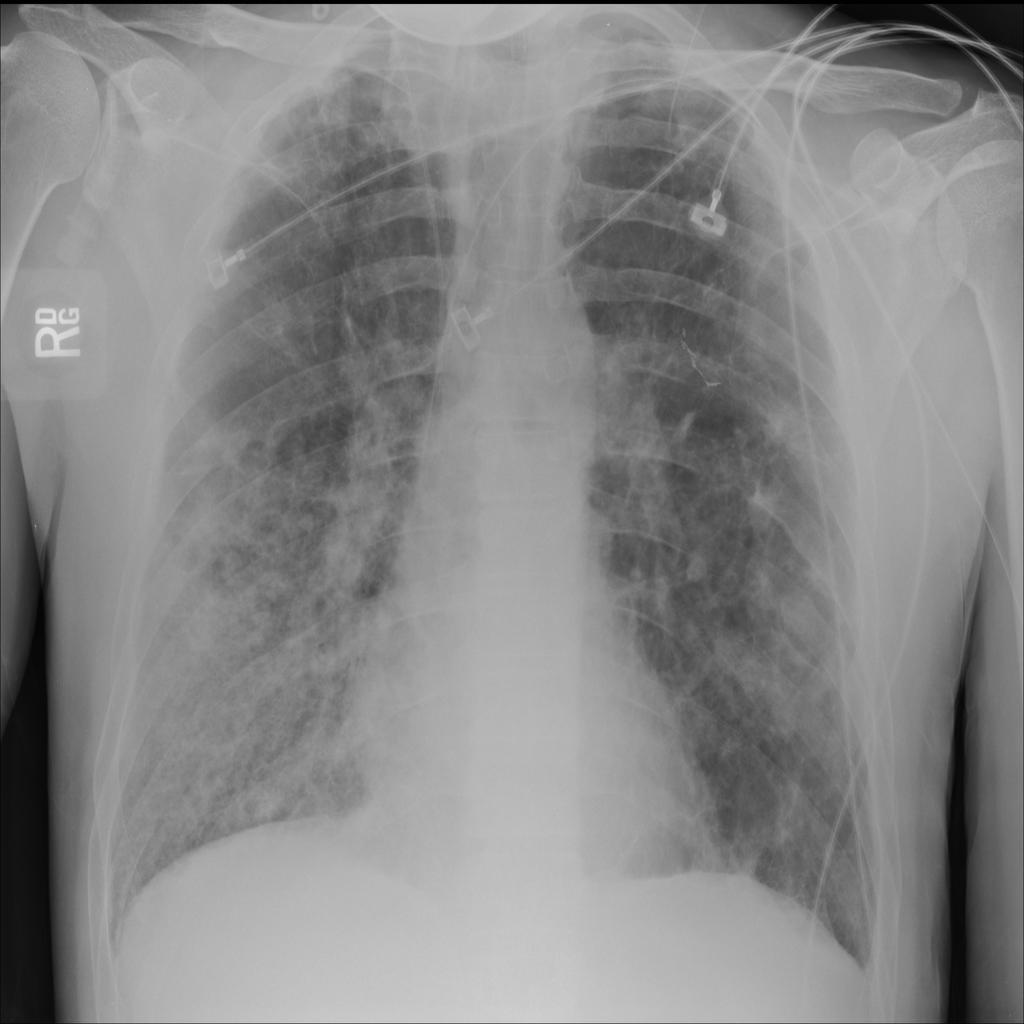nodule: (773, 564, 840, 654), (229, 769, 299, 841), (734, 465, 792, 546), (678, 535, 720, 596)
